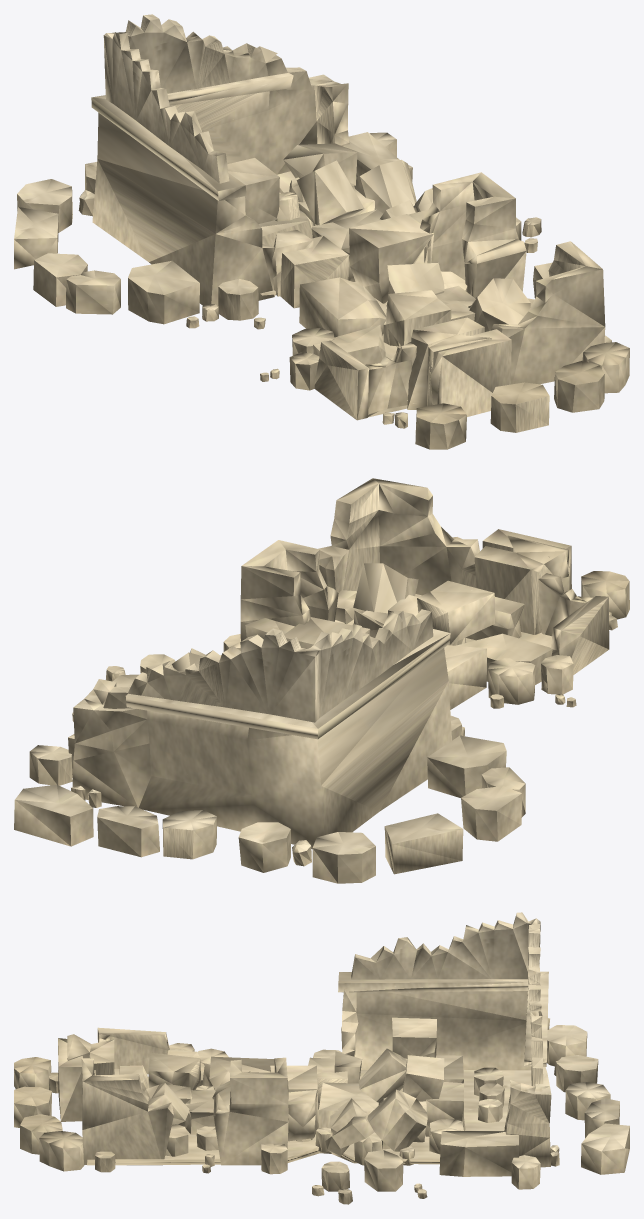
The model's file is castle_d4.2.glb.
3 renders of one model, top to bottom at view 1: azimuth 30°, elevation 25°; view 2: azimuth 150°, elevation 25°; view 3: azimuth 270°, elevation 25°, orthographic. The views are drawn at different scales.
Visible parts, largest first — view 1: castle_d4.2; view 2: castle_d4.2; view 3: castle_d4.2.
Boxes of the visible parts, x1,y1,x2,y2 form: castle_d4.2: [14, 14, 629, 449]; castle_d4.2: [14, 478, 629, 883]; castle_d4.2: [14, 912, 629, 1204].
Bounding box in the file's own units: 1.98 × 0.8553 × 2.9.
1 material, 1 textured.
